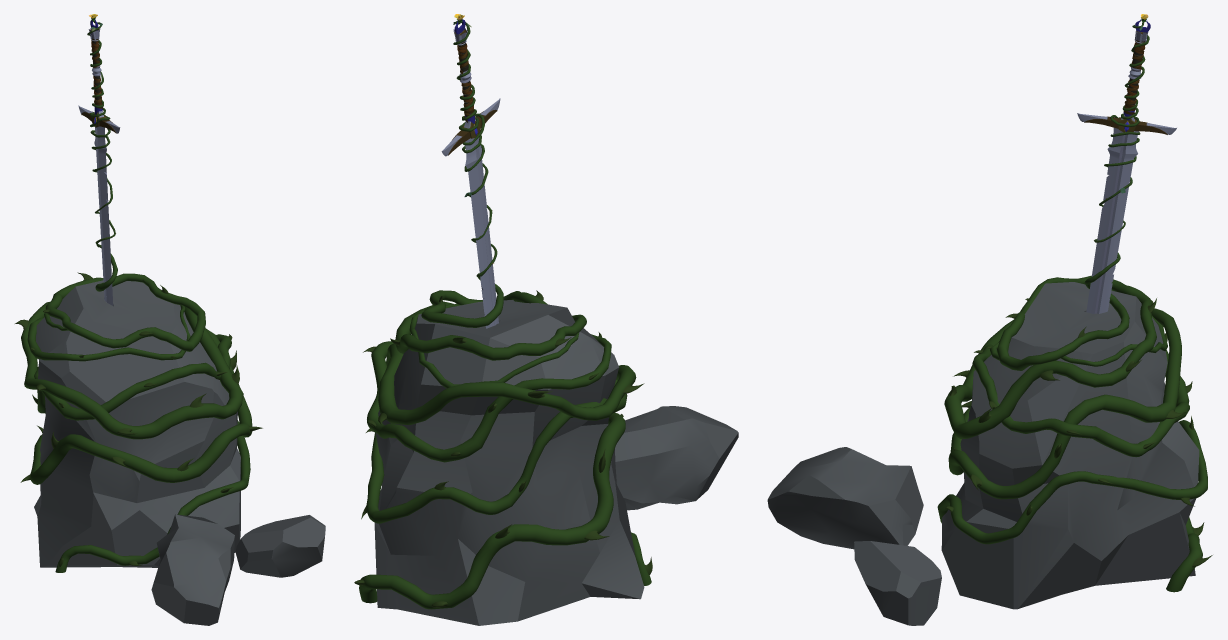
The model's file is espada_en_roca.glb.
The picture shows the model from 3 angles, left to right: view 1: azimuth 30°, elevation 25°; view 2: azimuth 150°, elevation 25°; view 3: azimuth 270°, elevation 25°; orthographic projection. The views are drawn at different scales.
Parts seen in each view (by area): view 1: Cube, Cylinder.010, Cube.005, Cylinder.086, Cube.004, Cube.014; view 2: Cube, Cylinder.010, Cylinder.086, Cube.005, Cube.014; view 3: Cube, Cylinder.010, Cube.005, Cylinder.086, Cube.004, Cube.014.
Boxes of the visible parts, x1,y1,x2,y2 form: Cube: (34, 280, 240, 567); Cylinder.010: (21, 20, 252, 484); Cube.005: (151, 514, 234, 625); Cylinder.086: (27, 305, 250, 572); Cube.004: (235, 515, 325, 577); Cube.014: (94, 126, 113, 305); Cube: (374, 300, 644, 625); Cylinder.010: (359, 21, 636, 609); Cylinder.086: (366, 304, 651, 585); Cube.005: (611, 406, 738, 510); Cube.014: (465, 137, 498, 328); Cube: (941, 282, 1199, 609); Cylinder.010: (944, 22, 1202, 592); Cube.005: (767, 447, 923, 549); Cylinder.086: (937, 290, 1207, 544); Cube.004: (854, 541, 941, 625); Cube.014: (1086, 127, 1138, 313).
Size of the model in its own units: 1.62 by 3.38 by 2.46.
